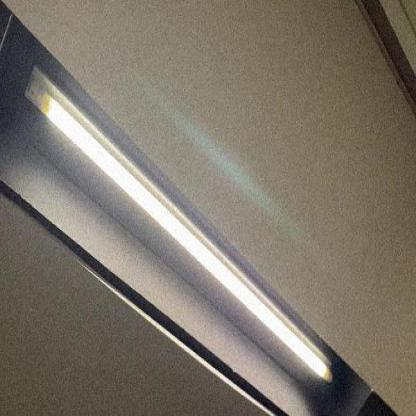light_on: (20, 55, 348, 391)
